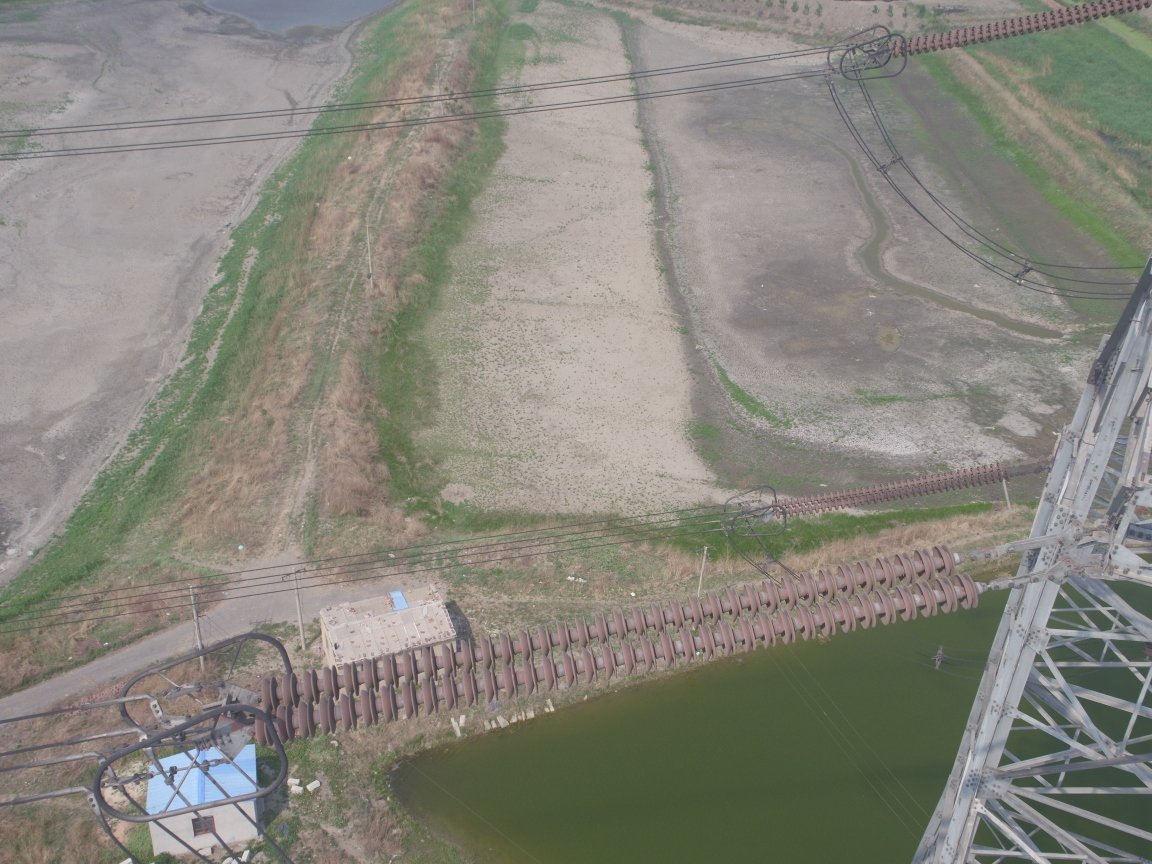insulator: (236, 538, 1034, 753), (881, 1, 1152, 62), (768, 460, 1021, 517)
